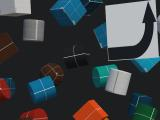Left: (105, 0, 159, 61)
